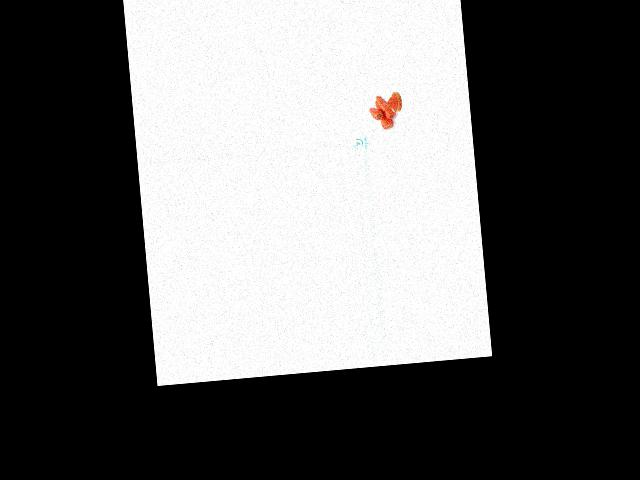carrot: (374, 93, 394, 120)
